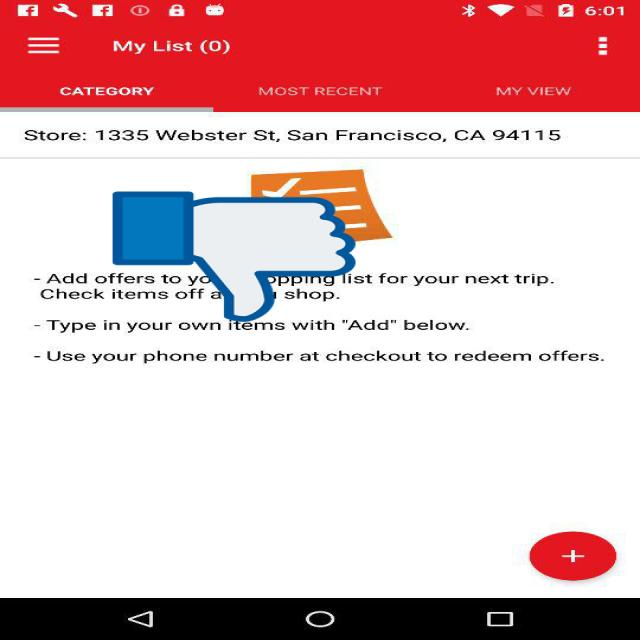obstruction: (112, 188, 356, 324)
